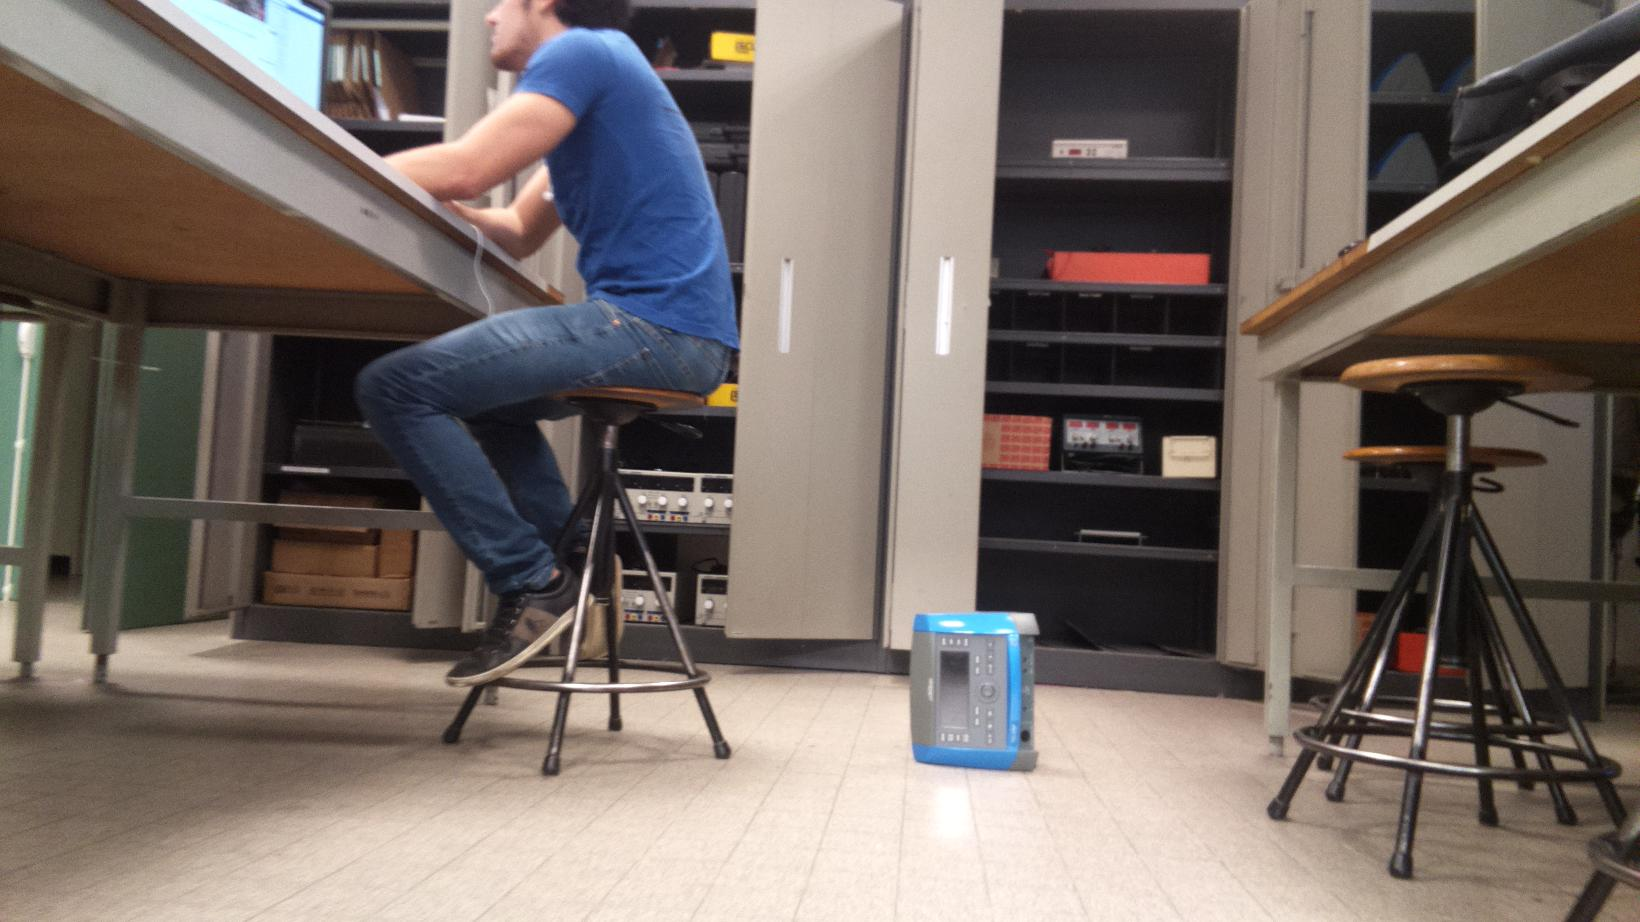medium: (904, 608, 1046, 781)
